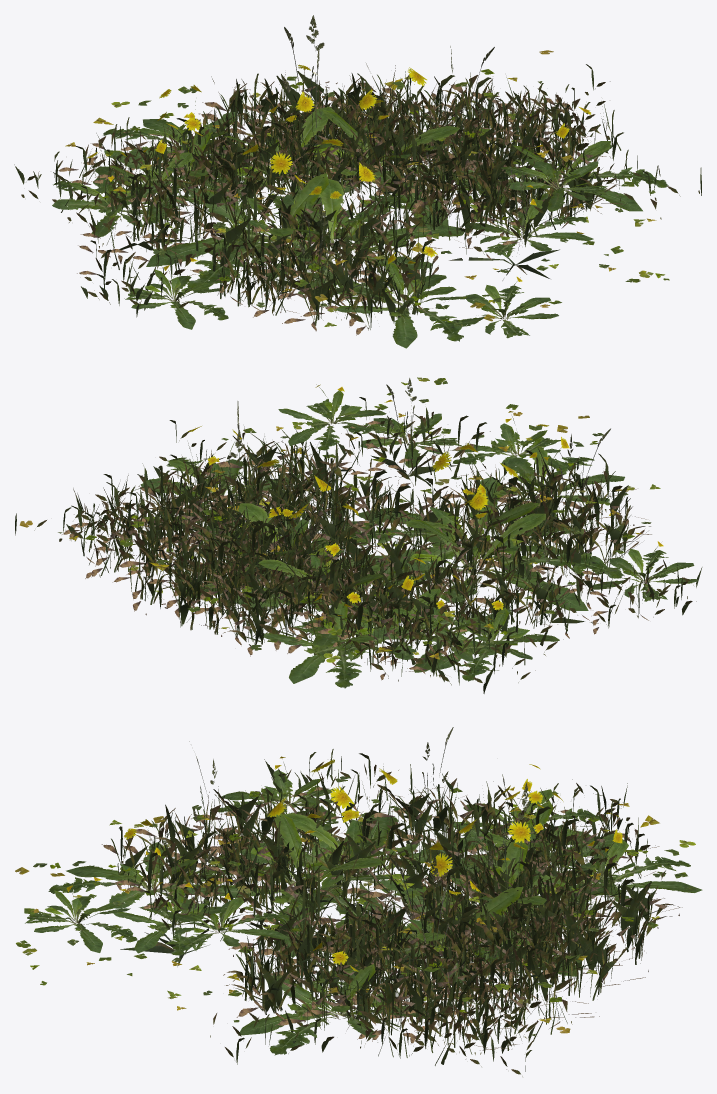
Rendered from grass.glb.
3 renders of one model, top to bottom at view 1: azimuth 30°, elevation 25°; view 2: azimuth 150°, elevation 25°; view 3: azimuth 270°, elevation 25°, orthographic. The views are drawn at different scales.
Visible parts, largest first — view 1: Cloner; view 2: Cloner; view 3: Cloner.
Boxes of the visible parts, x1=… form: Cloner: x1=14, y1=15, x2=701, y2=348; Cloner: x1=15, y1=377, x2=702, y2=693; Cloner: x1=15, y1=727, x2=702, y2=1076.
Size of the model in its own units: 2.75 by 0.7029 by 2.53.
4 materials, 4 textured.
